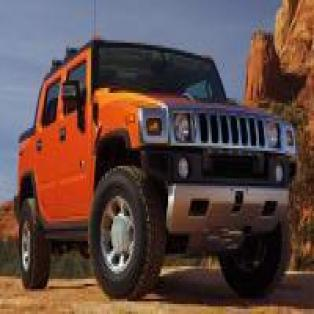Auto: (11, 25, 303, 304)
